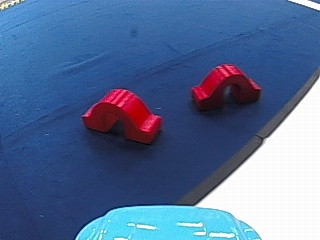bridge: (80, 83, 166, 146), (186, 60, 265, 110)
